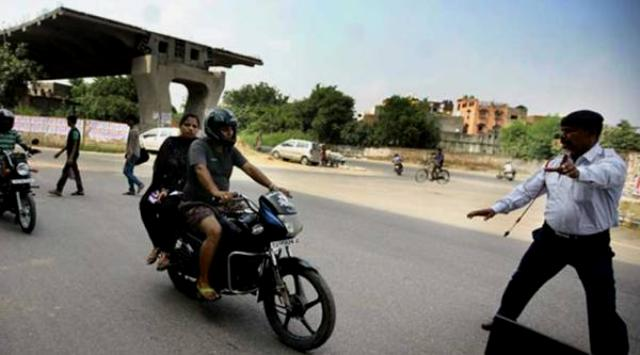licensePlate: (267, 236, 299, 253), (10, 178, 33, 186)
motorcycle: (139, 106, 330, 348), (0, 106, 42, 240)
withHelmet: (198, 110, 236, 147), (0, 108, 15, 131)
withoutHelmet: (179, 110, 199, 135)
